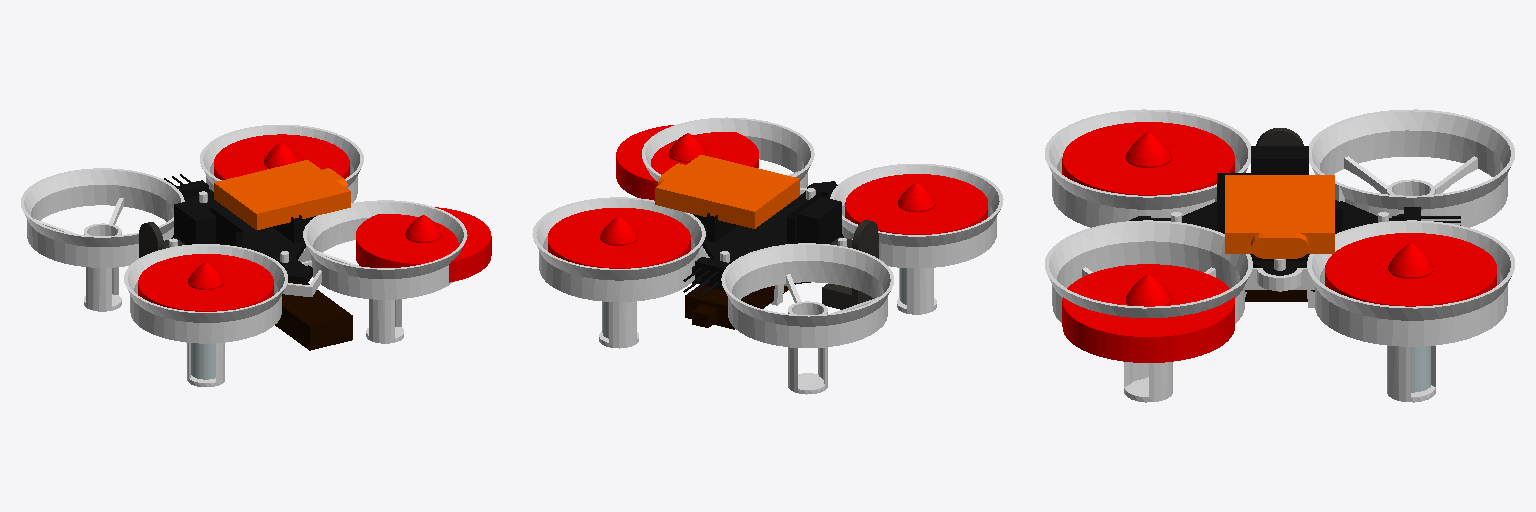
The robot description file, URDF, robot "stampfly_fixed":
<?xml version="1.0"?>
<!--
  stampfly_fixed.urdf - 固定プロペラ版 StampFly
  Fixed propeller version for large swarm simulations

  構造:
    - 1 link (base_link with all visuals)
    - 0 joints (propellers are fixed visuals)
    - 6 DOFs (free root joint only)

  通常版との違い:
    - 通常版: 5 links, 5 joints, 10 DOFs
    - 固定版: 1 link, 0 joints, 6 DOFs
-->
<robot name="stampfly_fixed">

  <!-- Materials -->
  <material name="motor_material">
    <color rgba="0.7765 0.8314 0.8431 1"/>
  </material>
  <material name="propeller_material">
    <color rgba="1.0000 0.0000 0.0000 0.7"/>
  </material>
  <material name="battery_material">
    <color rgba="0.1569 0.0667 0.0039 1"/>
  </material>
  <material name="battery_adapter_material">
    <color rgba="0.2196 0.2118 0.2000 1"/>
  </material>
  <material name="frame_material">
    <color rgba="0.9000 0.9000 0.9000 0.9"/>
  </material>
  <material name="pcb_material">
    <color rgba="0.1020 0.0980 0.0980 1"/>
  </material>
  <material name="m5stamps3_material">
    <color rgba="1.0000 0.4000 0.0000 1"/>
  </material>

  <!-- Base Link (all components as fixed visuals) -->
  <link name="base_link">
    <!-- Motors -->
    <visual name="motor_fl_visual">
      <origin xyz="0 0 0" rpy="-1.5708 3.14159 0"/>
      <geometry>
        <mesh filename="motor_fl.stl" scale="0.001 0.001 0.001"/>
      </geometry>
      <material name="motor_material"/>
    </visual>
    <visual name="motor_rl_visual">
      <origin xyz="0 0 0" rpy="-1.5708 3.14159 0"/>
      <geometry>
        <mesh filename="motor_rl.stl" scale="0.001 0.001 0.001"/>
      </geometry>
      <material name="motor_material"/>
    </visual>
    <visual name="motor_fr_visual">
      <origin xyz="0 0 0" rpy="-1.5708 3.14159 0"/>
      <geometry>
        <mesh filename="motor_fr.stl" scale="0.001 0.001 0.001"/>
      </geometry>
      <material name="motor_material"/>
    </visual>
    <visual name="motor_rr_visual">
      <origin xyz="0 0 0" rpy="-1.5708 3.14159 0"/>
      <geometry>
        <mesh filename="motor_rr.stl" scale="0.001 0.001 0.001"/>
      </geometry>
      <material name="motor_material"/>
    </visual>

    <!-- Propellers (fixed) -->
    <visual name="propeller_fl_visual">
      <origin xyz="0 0 0" rpy="-1.5708 3.14159 0"/>
      <geometry>
        <mesh filename="propeller_fl.stl" scale="0.001 0.001 0.001"/>
      </geometry>
      <material name="propeller_material"/>
    </visual>
    <visual name="propeller_rr_visual">
      <origin xyz="0 0 0" rpy="-1.5708 3.14159 0"/>
      <geometry>
        <mesh filename="propeller_rr.stl" scale="0.001 0.001 0.001"/>
      </geometry>
      <material name="propeller_material"/>
    </visual>
    <visual name="propeller_rl_visual">
      <origin xyz="0 0 0" rpy="-1.5708 3.14159 0"/>
      <geometry>
        <mesh filename="propeller_rl.stl" scale="0.001 0.001 0.001"/>
      </geometry>
      <material name="propeller_material"/>
    </visual>
    <visual name="propeller_fr_visual">
      <origin xyz="0 0 0" rpy="-1.5708 3.14159 0"/>
      <geometry>
        <mesh filename="propeller_fr.stl" scale="0.001 0.001 0.001"/>
      </geometry>
      <material name="propeller_material"/>
    </visual>

    <!-- Body components -->
    <visual name="battery_visual">
      <origin xyz="0 0 0" rpy="-1.5708 3.14159 0"/>
      <geometry>
        <mesh filename="battery.stl" scale="0.001 0.001 0.001"/>
      </geometry>
      <material name="battery_material"/>
    </visual>
    <visual name="battery_adapter_visual">
      <origin xyz="0 0 0" rpy="-1.5708 3.14159 0"/>
      <geometry>
        <mesh filename="battery_adapter.stl" scale="0.001 0.001 0.001"/>
      </geometry>
      <material name="battery_adapter_material"/>
    </visual>
    <visual name="frame_visual">
      <origin xyz="0 0 0" rpy="-1.5708 3.14159 0"/>
      <geometry>
        <mesh filename="frame.stl" scale="0.001 0.001 0.001"/>
      </geometry>
      <material name="frame_material"/>
    </visual>
    <visual name="pcb_visual">
      <origin xyz="0 0 0" rpy="-1.5708 3.14159 0"/>
      <geometry>
        <mesh filename="pcb.stl" scale="0.001 0.001 0.001"/>
      </geometry>
      <material name="pcb_material"/>
    </visual>
    <visual name="m5stamps3_visual">
      <origin xyz="0 0 0" rpy="-1.5708 3.14159 0"/>
      <geometry>
        <mesh filename="m5stamps3.stl" scale="0.001 0.001 0.001"/>
      </geometry>
      <material name="m5stamps3_material"/>
    </visual>

    <!-- Collision geometry (simple box approximation) -->
    <!-- Can be disabled at load time with collision=False -->
    <collision name="body_collision">
      <origin xyz="0 0 0.015" rpy="0 0 0"/>
      <geometry>
        <box size="0.08 0.08 0.03"/>  <!-- 80mm x 80mm x 30mm -->
      </geometry>
    </collision>

    <!-- Inertial (total mass including propellers) -->
    <inertial>
      <origin xyz="0 0 0" rpy="0 0 0"/>
      <mass value="0.034"/>  <!-- 30g body + 4g propellers -->
      <inertia ixx="9.16e-6" ixy="0" ixz="0" iyy="13.3e-6" iyz="0" izz="20.4e-6"/>
    </inertial>
  </link>

</robot>

--- What the picture shows (computed from the rendered views, not written in the file) ---
The picture shows the robot from 3 angles, left to right: view 1: azimuth 30°, elevation 25°; view 2: azimuth 150°, elevation 25°; view 3: azimuth 270°, elevation 25°; orthographic projection.
Robot: stampfly_fixed — 1 links, 0 joints (none); root link base_link; default pose: all joints at 0.
Links seen in each view (by area): view 1: base_link; view 2: base_link; view 3: base_link.
Link boxes in pixels (x1,y1,x2,y2): base_link: (21,125,491,386); base_link: (532,117,1003,394); base_link: (1045,109,1514,402).
Size in the robot's own frame: 0.0885 by 0.0818 by 0.0301 metres.
10 mesh visuals loaded from 13 distinct referenced files (10 binary STL); not drawn: 3 (reference not matched to a file when rendering).
